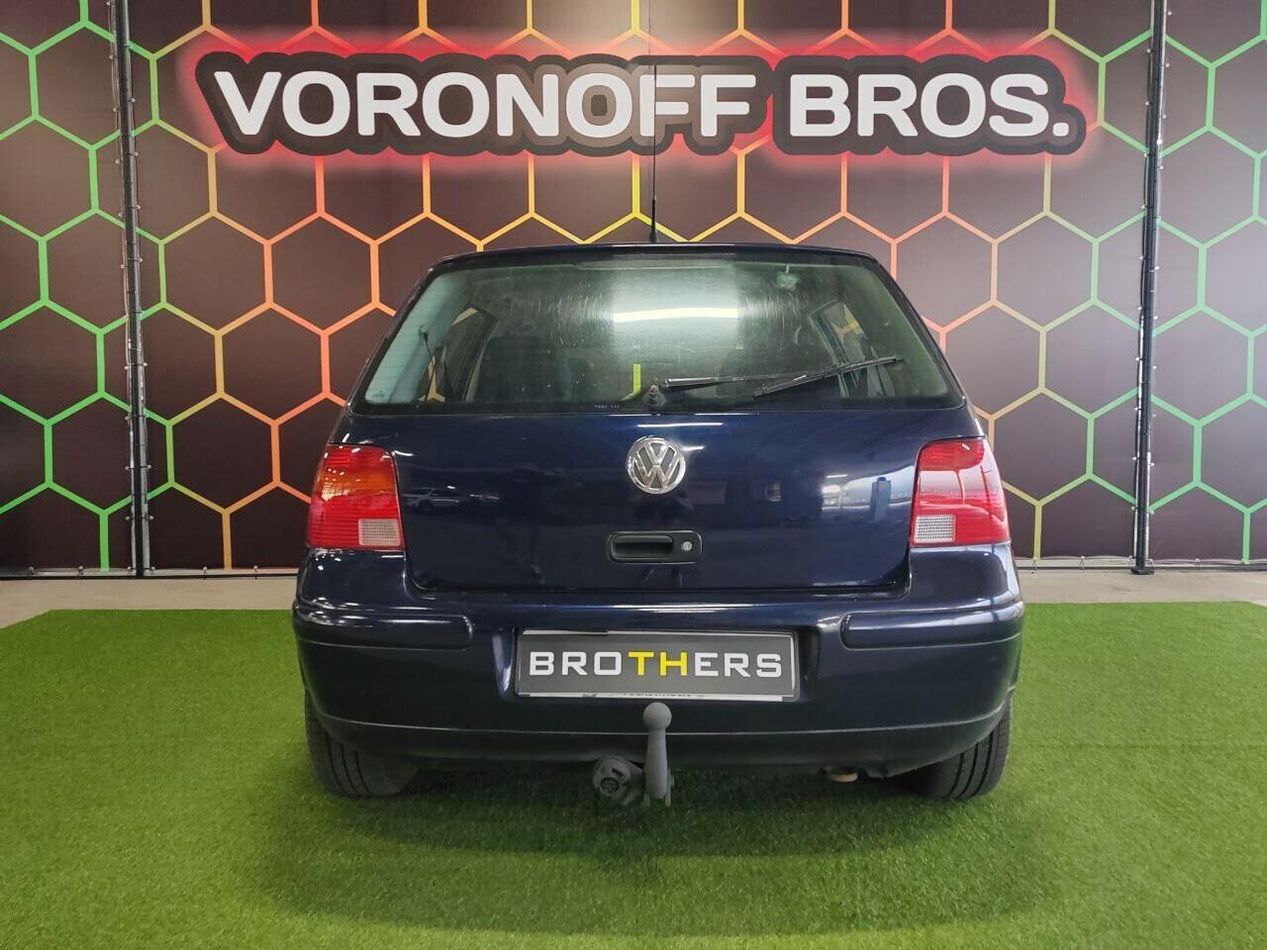Golf_1997-2006: (274, 241, 1068, 844)
